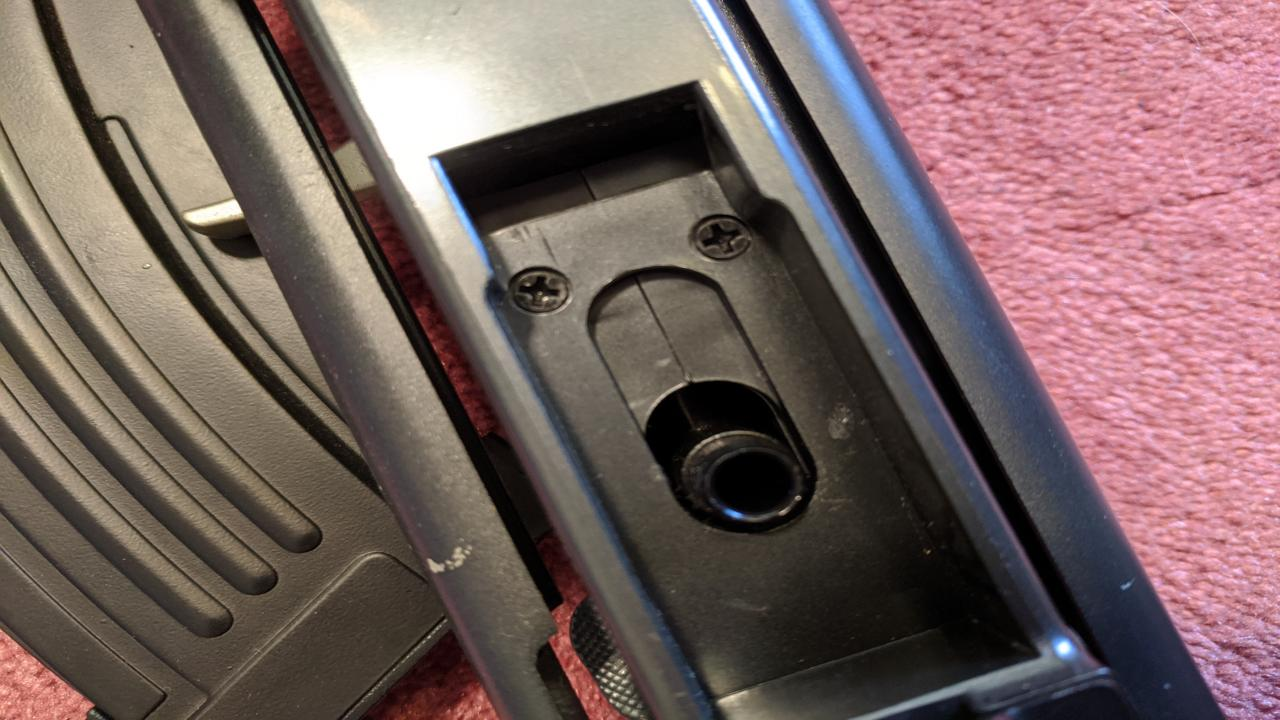CRS: (505, 266, 577, 319), (691, 216, 753, 263)
